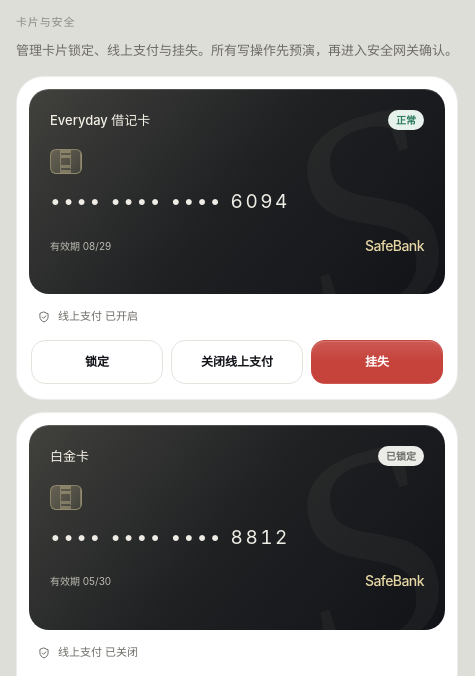
CardsPage › PlanView expired on load shows feedback and does not open confirmable panel
Check: the text "Everyday 借记卡" is shown, box [50,110,150,131]
Click the button "锁定" at (97, 362), box [31,340,163,384]
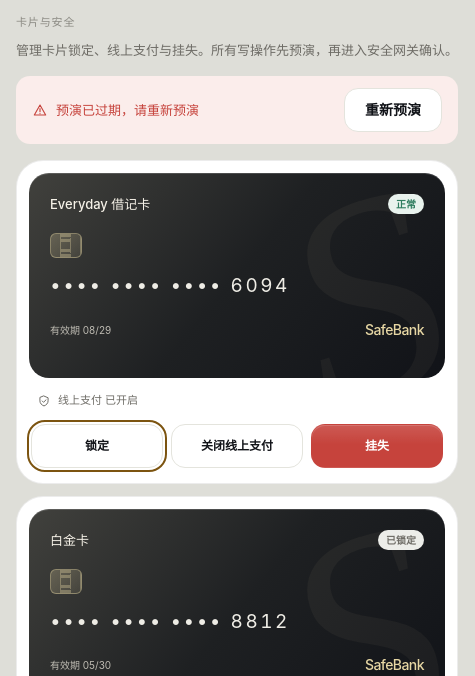
Check: the text "预演已过期，请重新预演" is shown, box [56,102,199,118]
Check: the button "重新预演" is shown, box [344,88,442,132]
